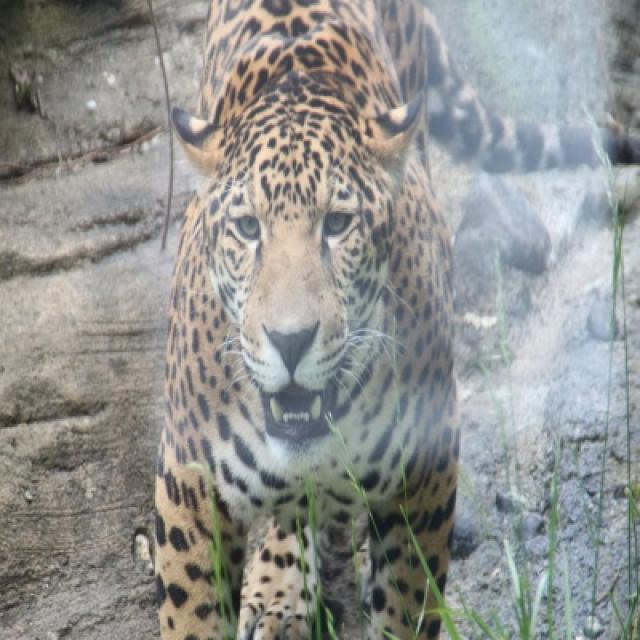Jaguar: (138, 0, 461, 638)
